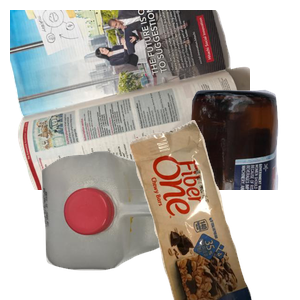glass: (87, 87, 300, 267)
paper: (10, 10, 250, 190)
plastic: (39, 149, 203, 300)
trash: (127, 120, 300, 300)
